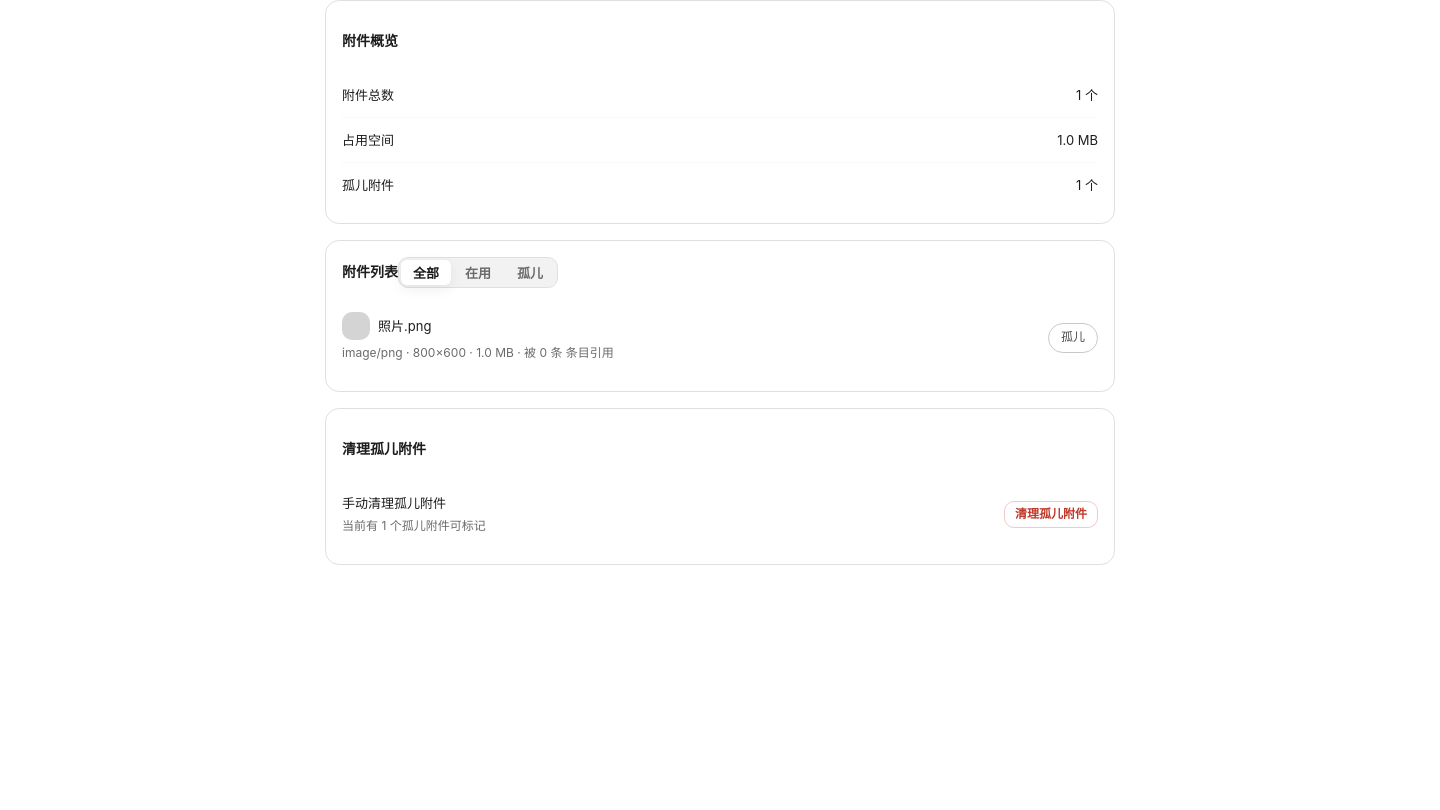
手动清理孤儿附件 › 清完的提示留在页面上（不是会自动消失的 toast）
The width and height of the screenshot is (1440, 810).
Expected: the heading "附件概览" is shown, 342,17 -> 442,61
Click the button "清理孤儿附件": click(1051, 514) 1004,501 -> 1098,528
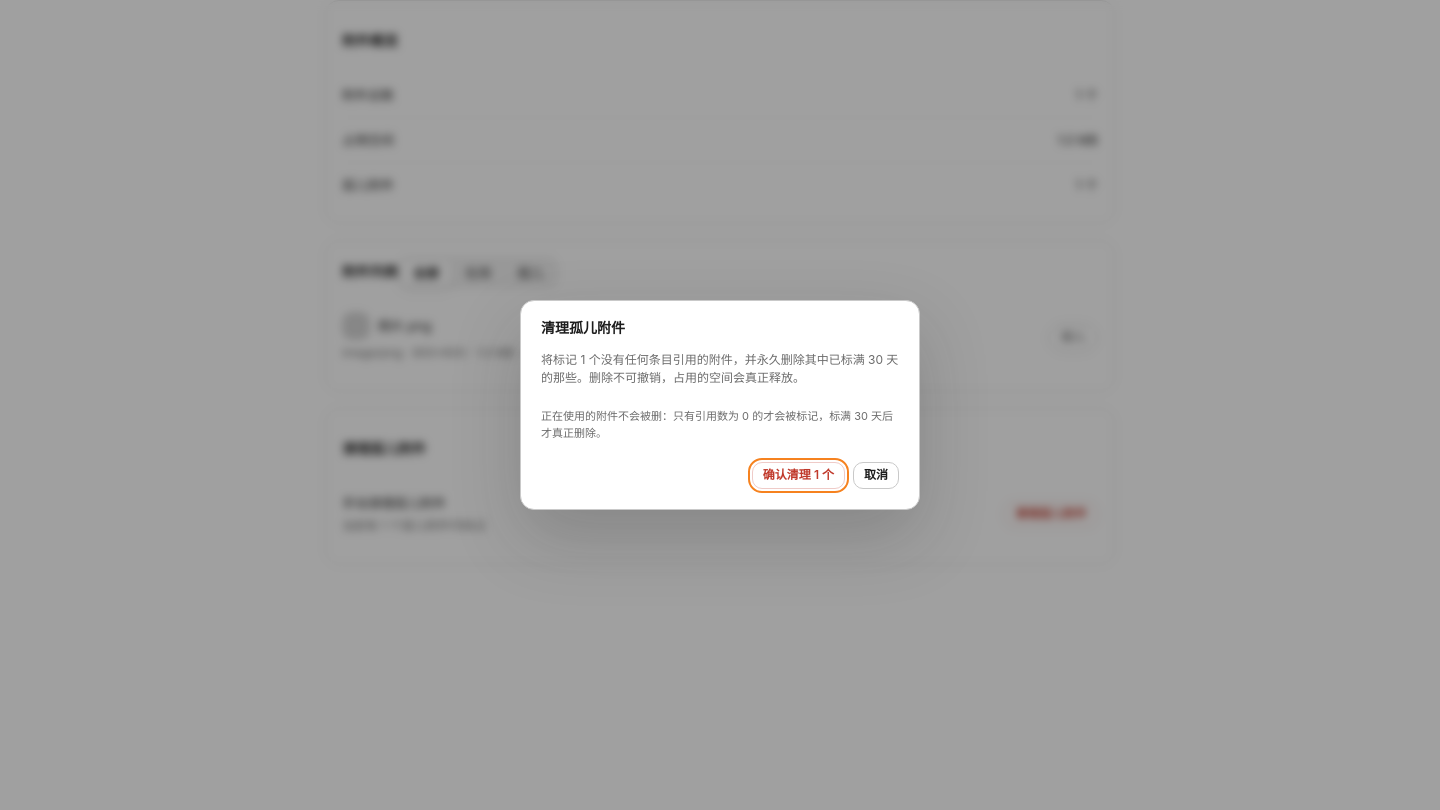
Click the button "确认清理 1 个": click(798, 476) 752,462 -> 845,489
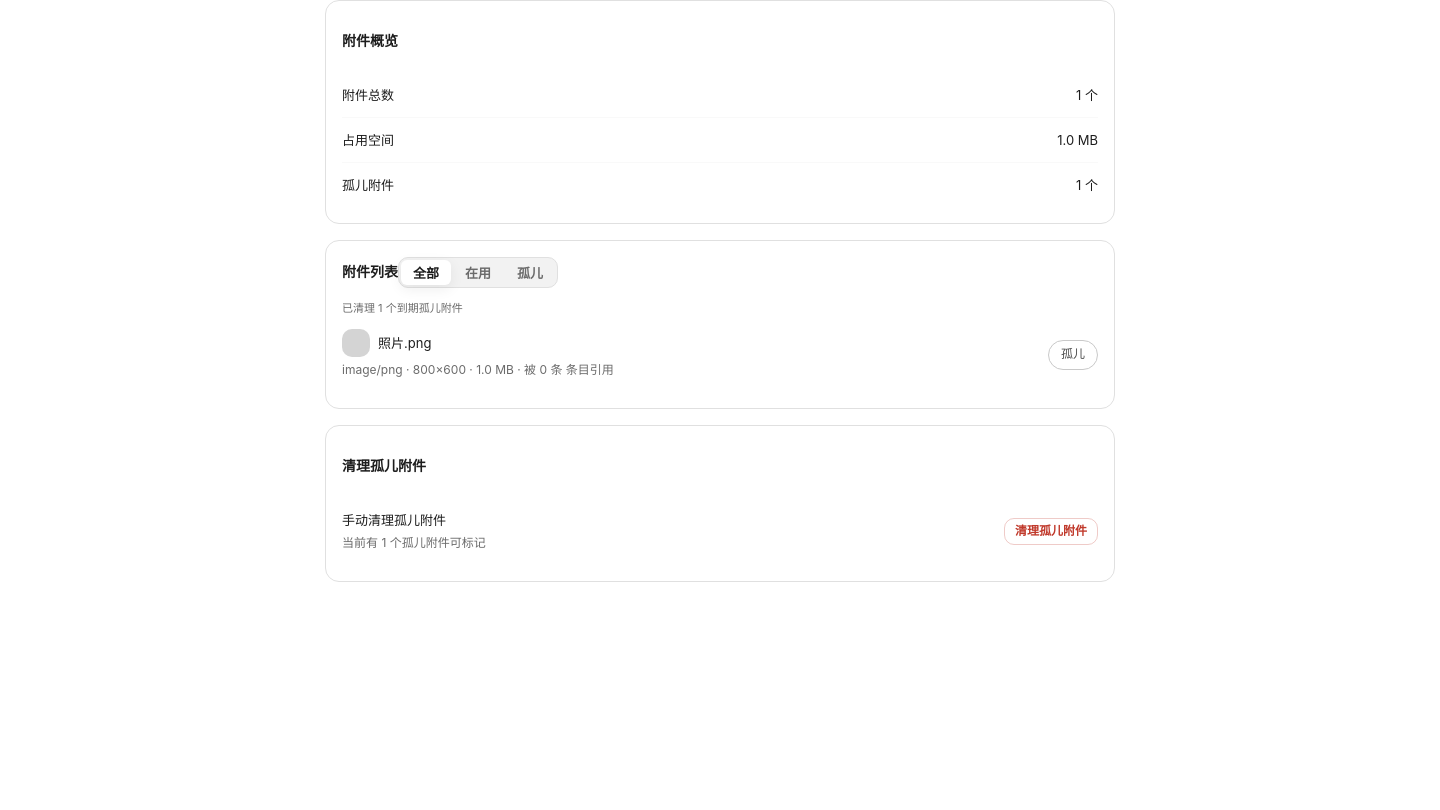
Expected: the text "已清理 1 个到期孤儿附件" is shown, 342,301 -> 463,315
